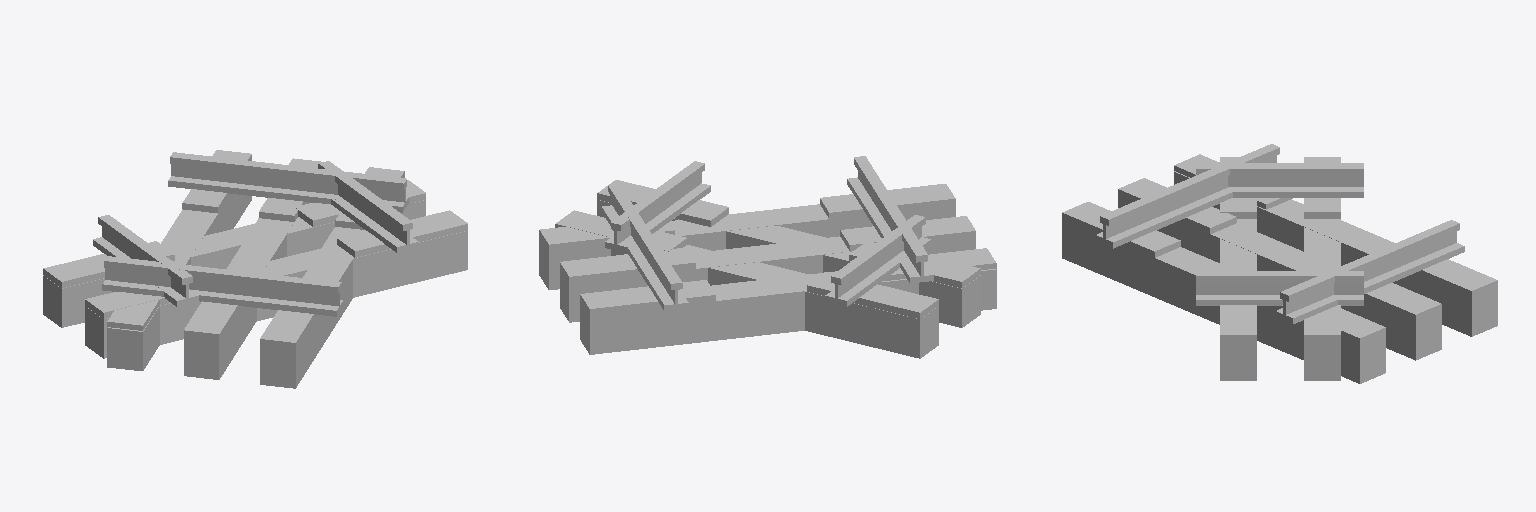
File: cross_d1_zo.obj
3 views of the same model, side by side, from view 1: azimuth 30°, elevation 25°; view 2: azimuth 150°, elevation 25°; view 3: azimuth 270°, elevation 25° (orthographic).
Visible parts, largest first — view 1: cube; view 2: cube; view 3: cube.
Boxes of the visible parts, <box> form: cube: <box>43,150,467,388</box>; cube: <box>539,156,996,358</box>; cube: <box>1062,144,1497,383</box>.
Bounding box in the file's own units: 2.59 × 0.474 × 2.59.